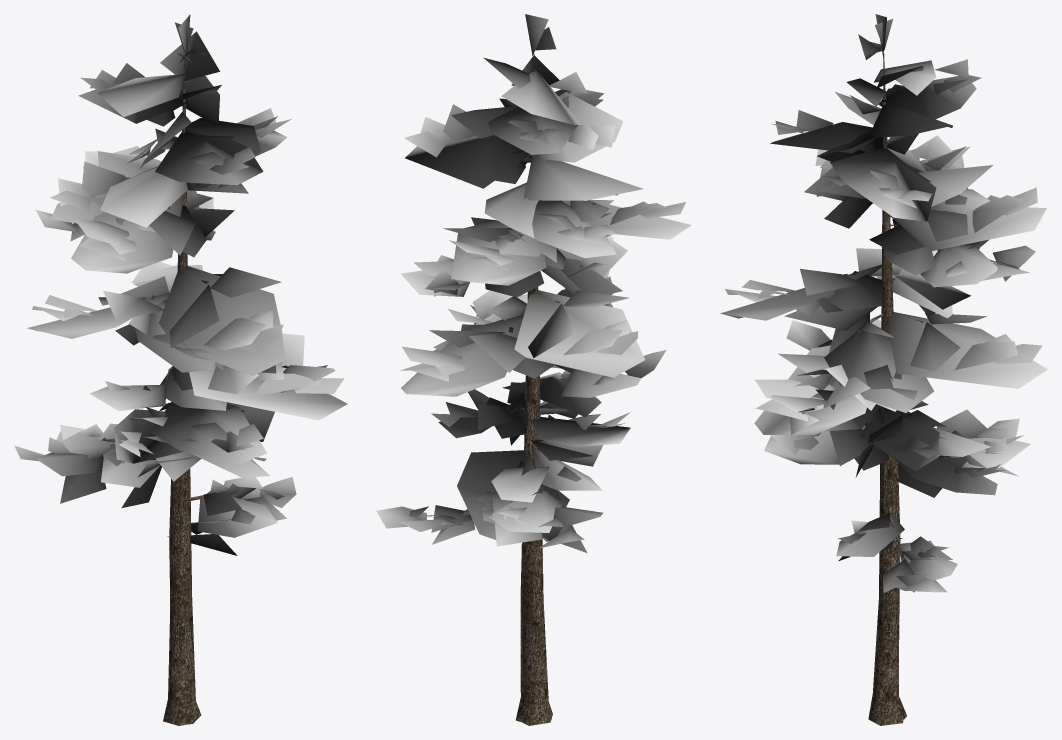
File: Fir_06.FBX
3 views of the same model, side by side, from view 1: azimuth 30°, elevation 25°; view 2: azimuth 150°, elevation 25°; view 3: azimuth 270°, elevation 25° (orthographic).
Visible parts, largest first — view 1: Fir_06; view 2: Fir_06; view 3: Fir_06.
Part boxes in pixels (x1,y1,x2,y2): Fir_06: (14, 14, 347, 725); Fir_06: (376, 14, 691, 725); Fir_06: (720, 14, 1047, 725).
Bounding box in the file's own units: 784 × 1962 × 827.
